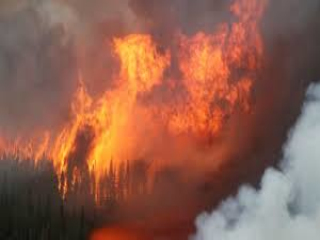fire: (33, 33, 264, 196)
smoke: (2, 1, 137, 102), (232, 87, 320, 238)
